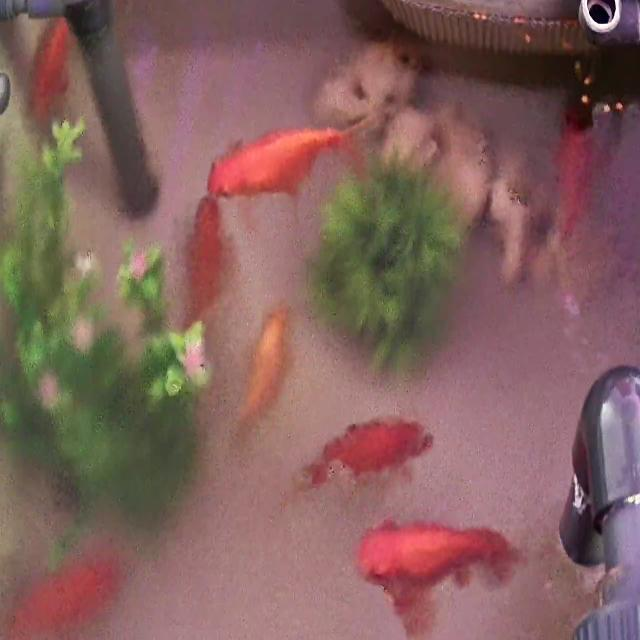fish: (368, 517, 518, 635), (0, 542, 124, 640), (206, 125, 346, 202), (296, 410, 419, 490), (235, 304, 290, 434), (180, 194, 225, 334), (552, 110, 596, 248), (30, 15, 72, 131)
